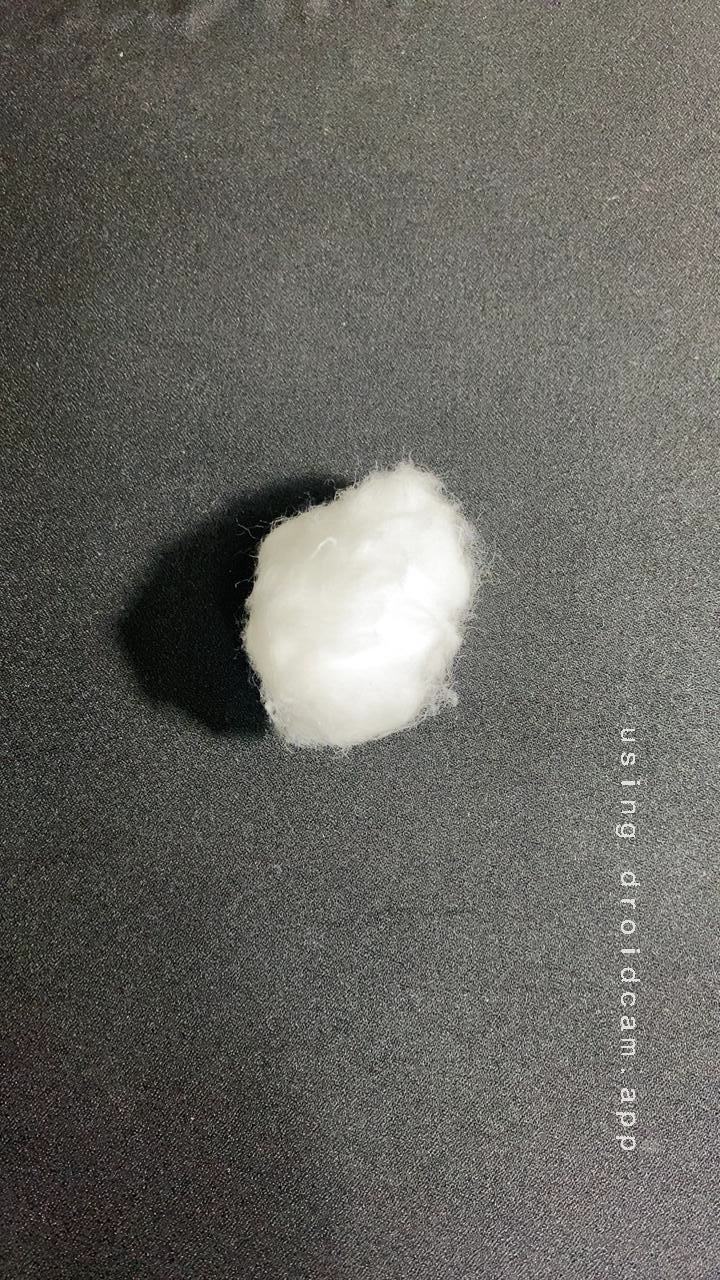cotton: (216, 436, 514, 760)
